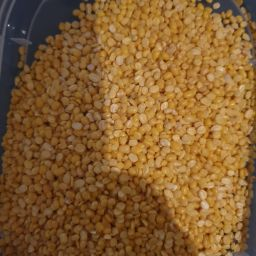Red Split Lentils(malka masar): (37, 5, 256, 243), (2, 94, 189, 256)
